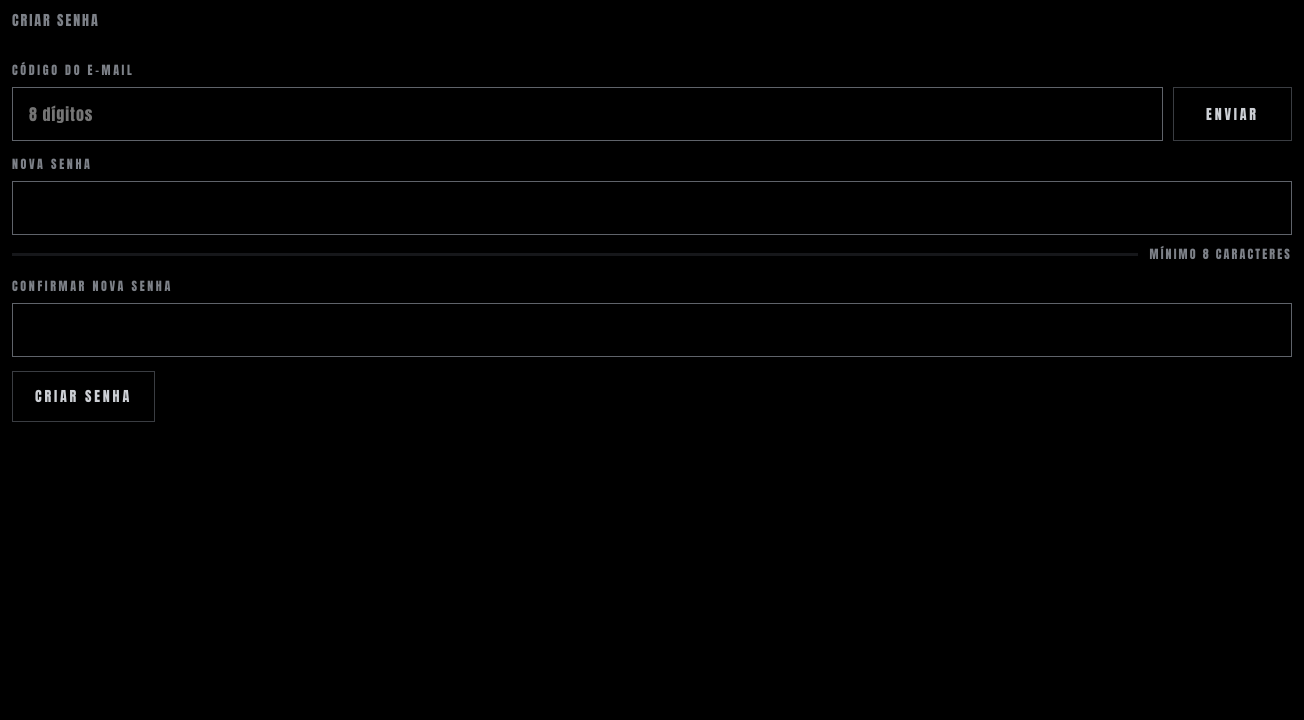
bloco de senha de Seguranca (#389) › codigo errado: aviso de erro, campo do codigo limpo e com o foco
The width and height of the screenshot is (1304, 720).
Type "12345678" into the field labelled "Código do e-mail" at (587, 114), box [12,87,1163,141]
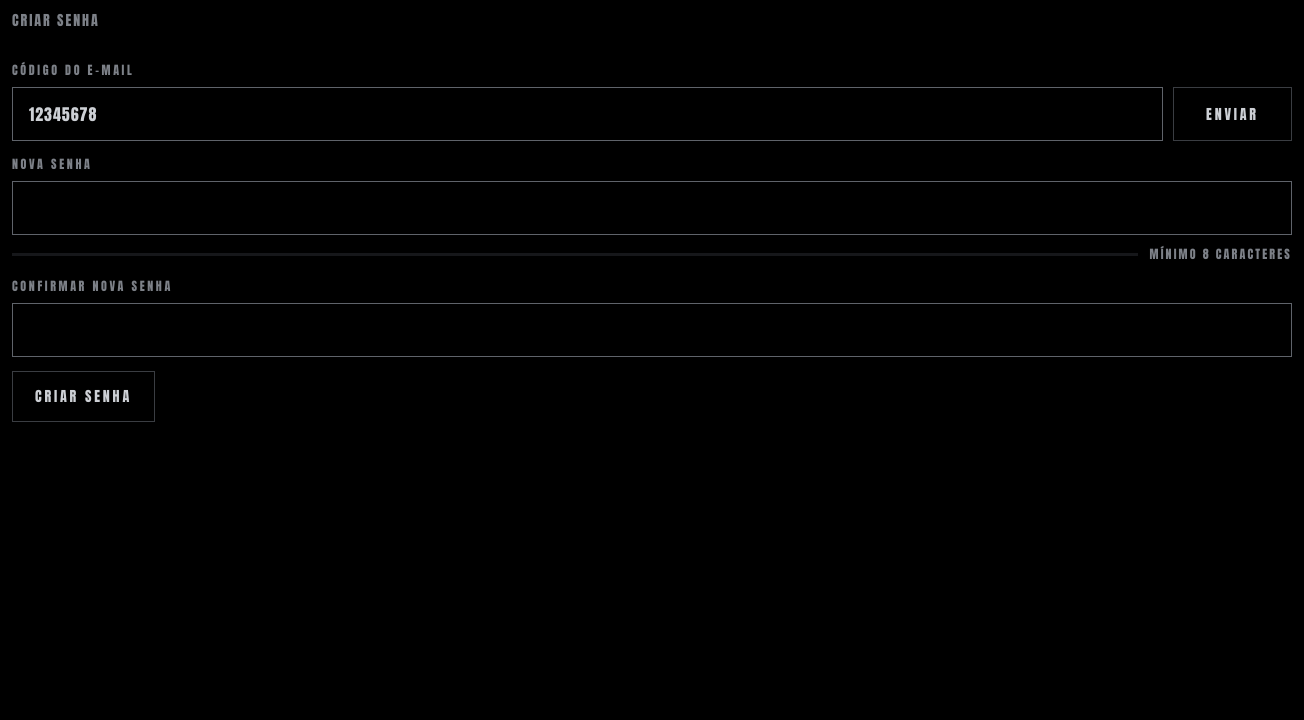
Type "senha-nova-longa-2" into the password field labelled "Nova senha" at (652, 208), box [12,181,1292,235]
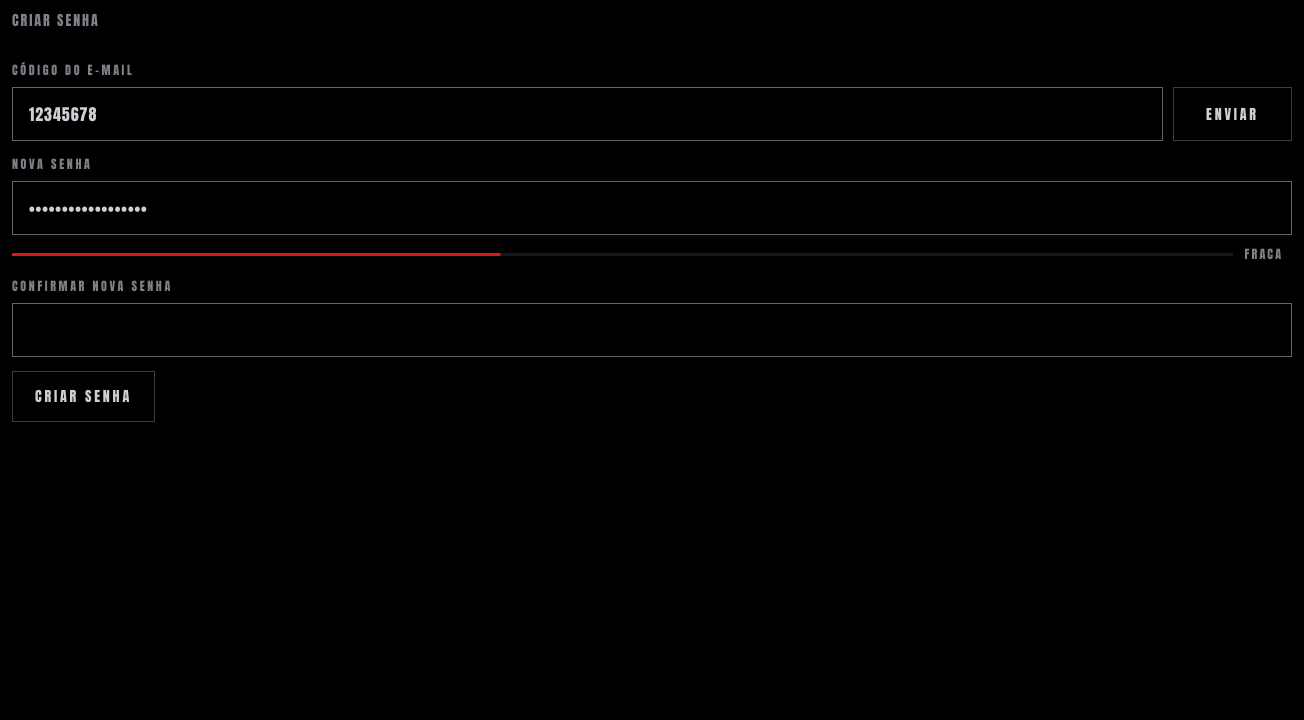
Type "senha-nova-longa-2" into the password field labelled "Confirmar nova senha" at (652, 330), box [12,303,1292,357]
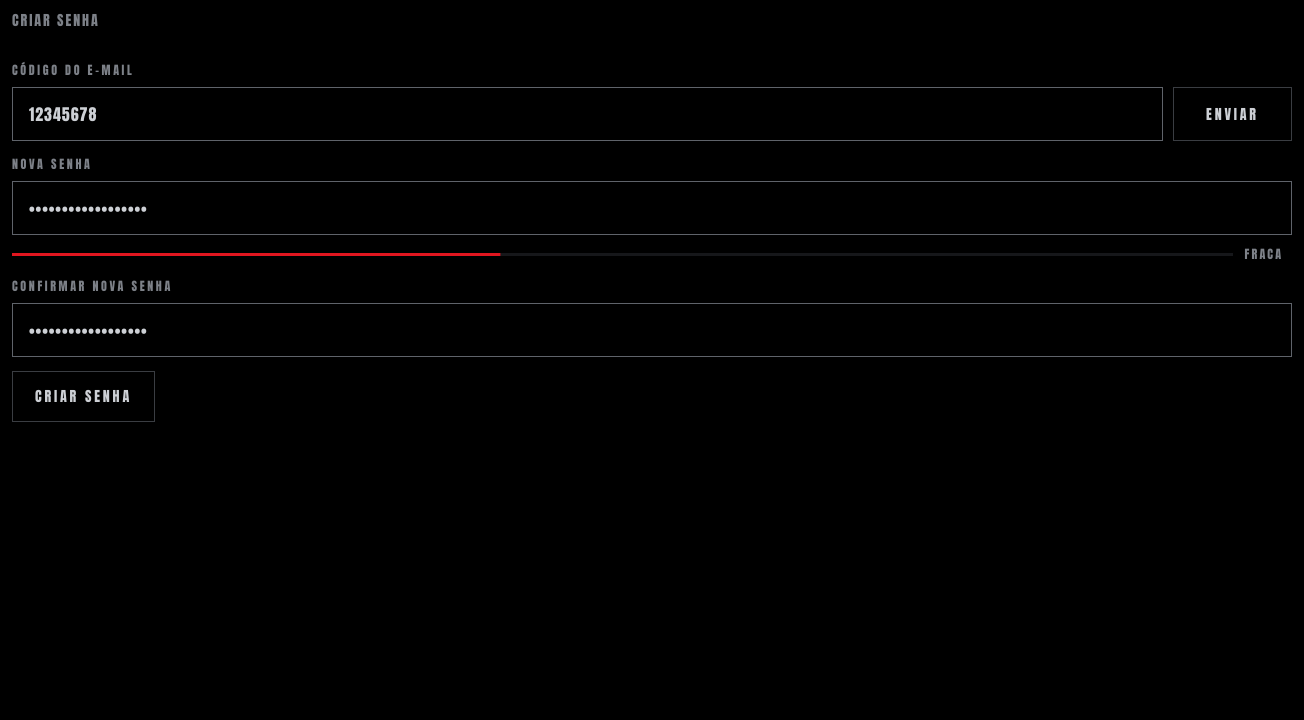
Click the button "Criar senha" at (84, 396), box [12,371,155,422]
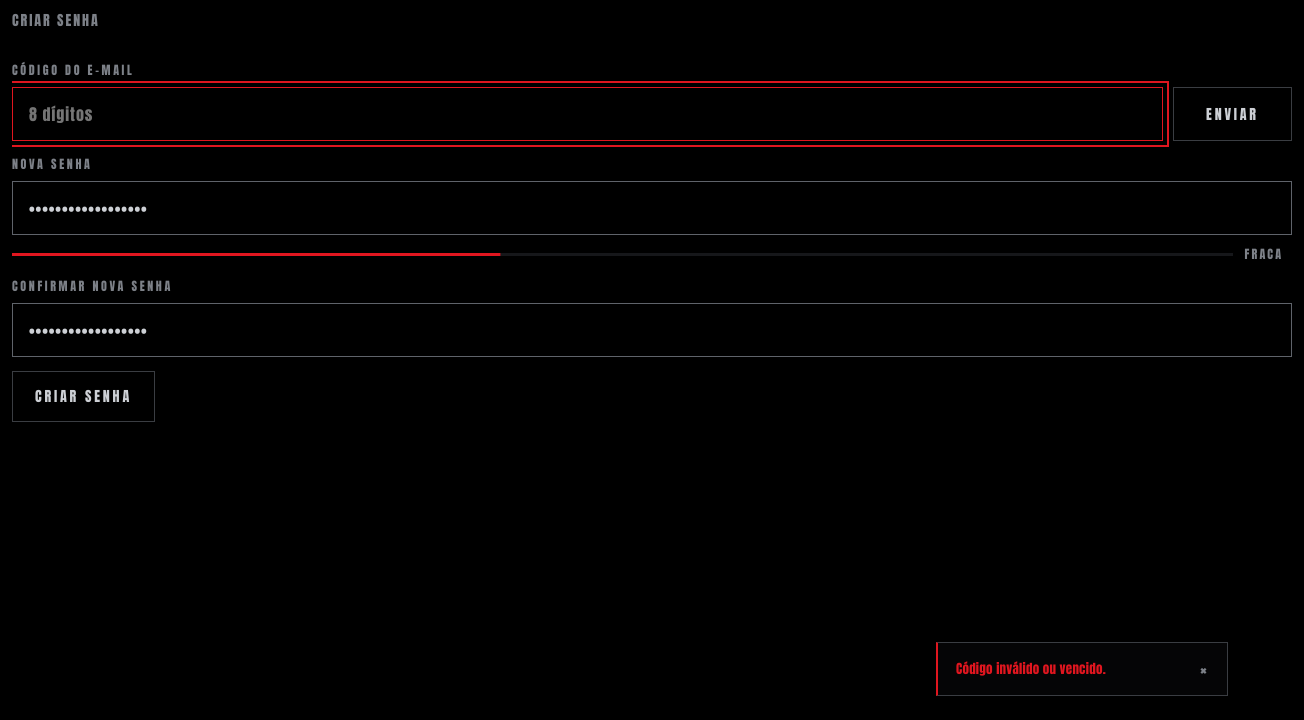
Expected: the message shows "inválido ou vencido", [956,659,1106,678]
Expected: the field labelled "Código do e-mail" is empty, [12,87,1163,141]
